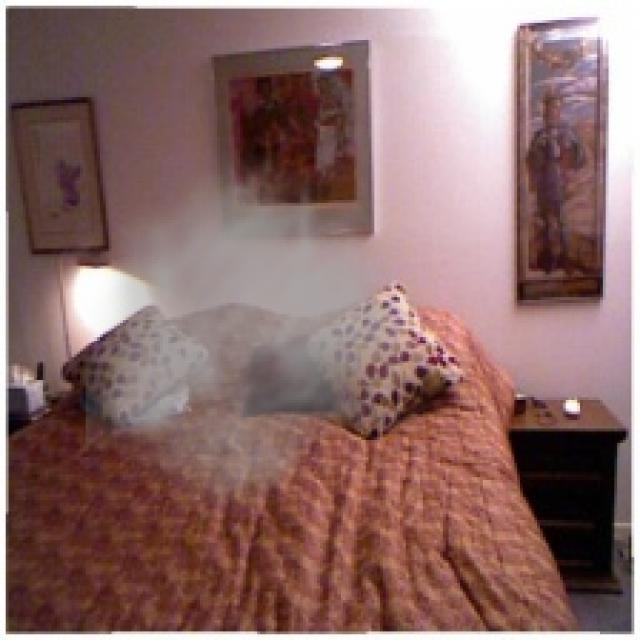smoke: (86, 143, 448, 526)
